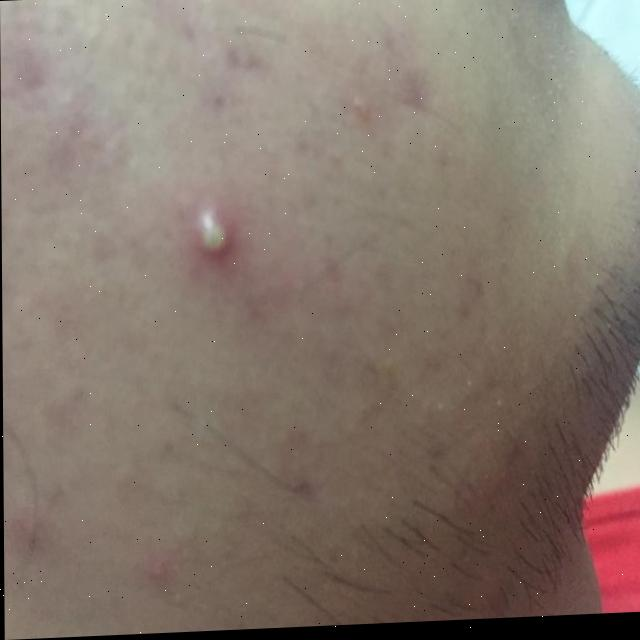Acne: (199, 203, 225, 258)
